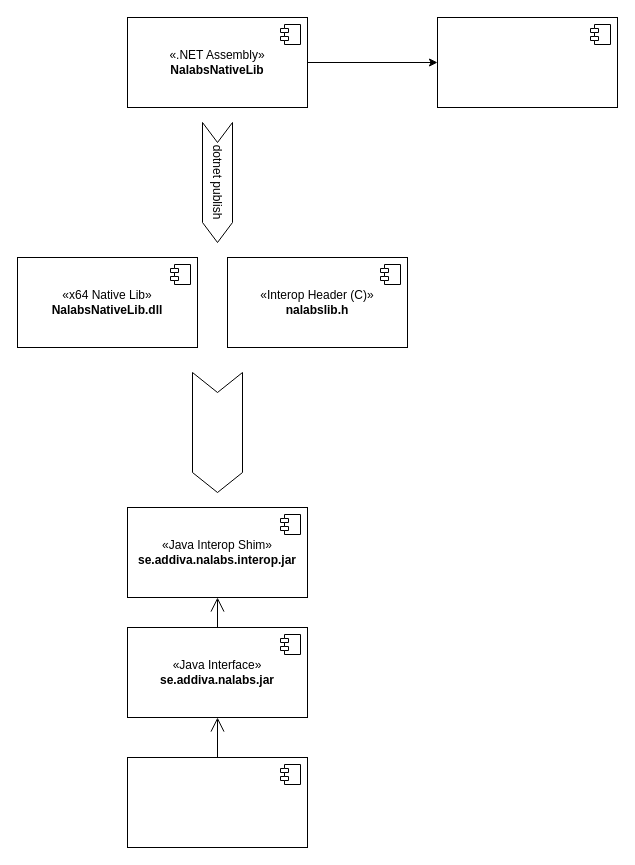
Image size: 635x865. Some labels were removed from this diagram. The shapes that lost their labels are listed below. From the top down, each one's centre as x and y in pixels, then its label:
At point (527, 62): "«.NET Assembly» Mdu.Nalabs".
At point (217, 432): "jextract javac jar".
At point (217, 802): "<<Capella Plugin>> nalabs.handlers.NalabsHandler".
